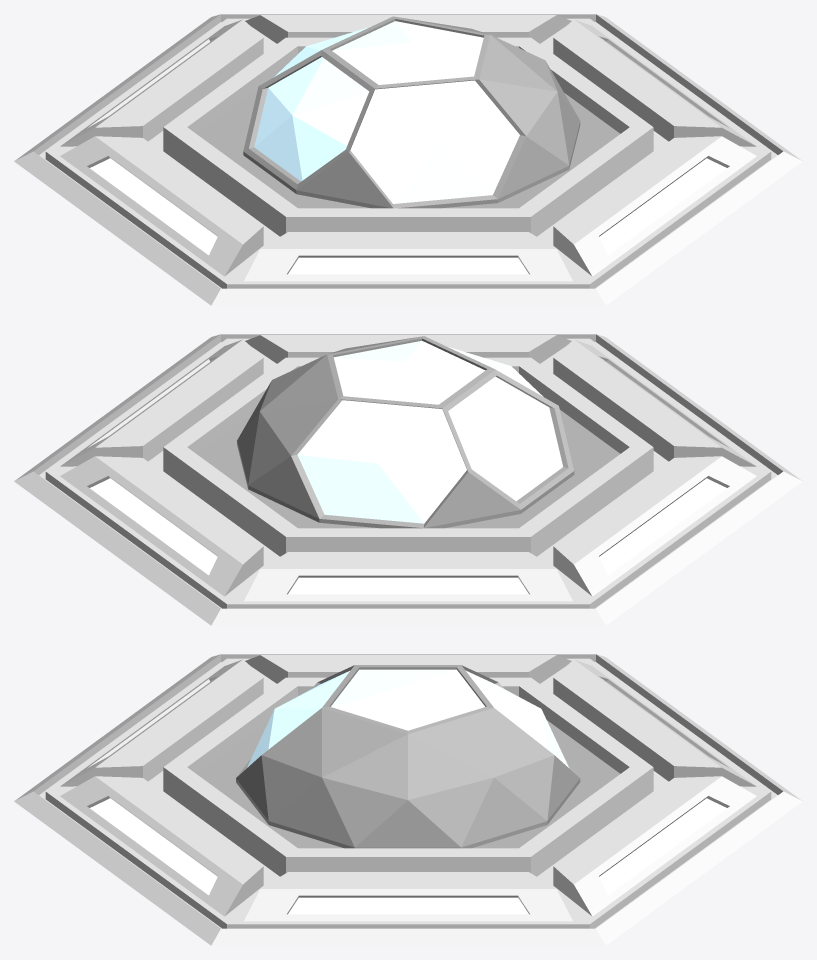
The model's file is CockpitUp_2.fbx.
3 renders of one model, top to bottom at view 1: azimuth 30°, elevation 25°; view 2: azimuth 150°, elevation 25°; view 3: azimuth 270°, elevation 25°, orthographic.
Visible parts, largest first — view 1: Cockpit; view 2: Cockpit; view 3: Cockpit.
Boxes of the visible parts, left/top/right/bottom form: Cockpit: left=14, top=14, right=802, bottom=305; Cockpit: left=14, top=334, right=802, bottom=625; Cockpit: left=14, top=654, right=802, bottom=945.
Bounding box in the file's own units: 214 × 41 × 247.
